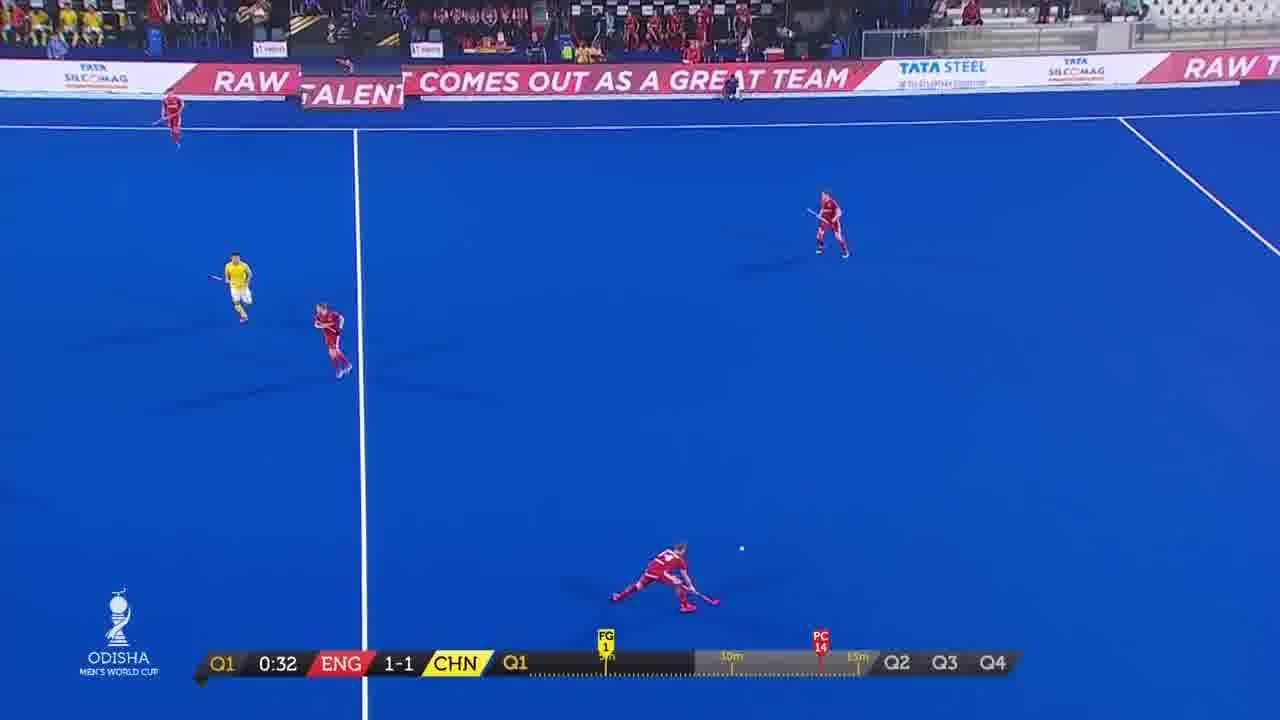ball: (732, 534, 750, 558)
